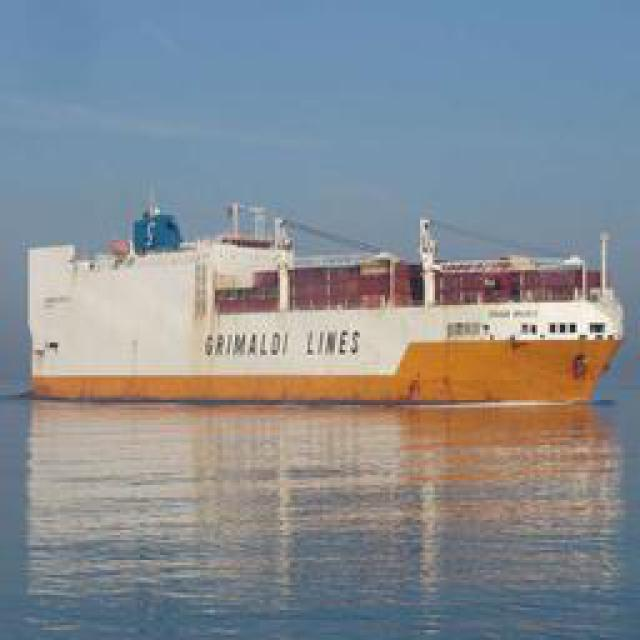Ship: (27, 199, 620, 404)
